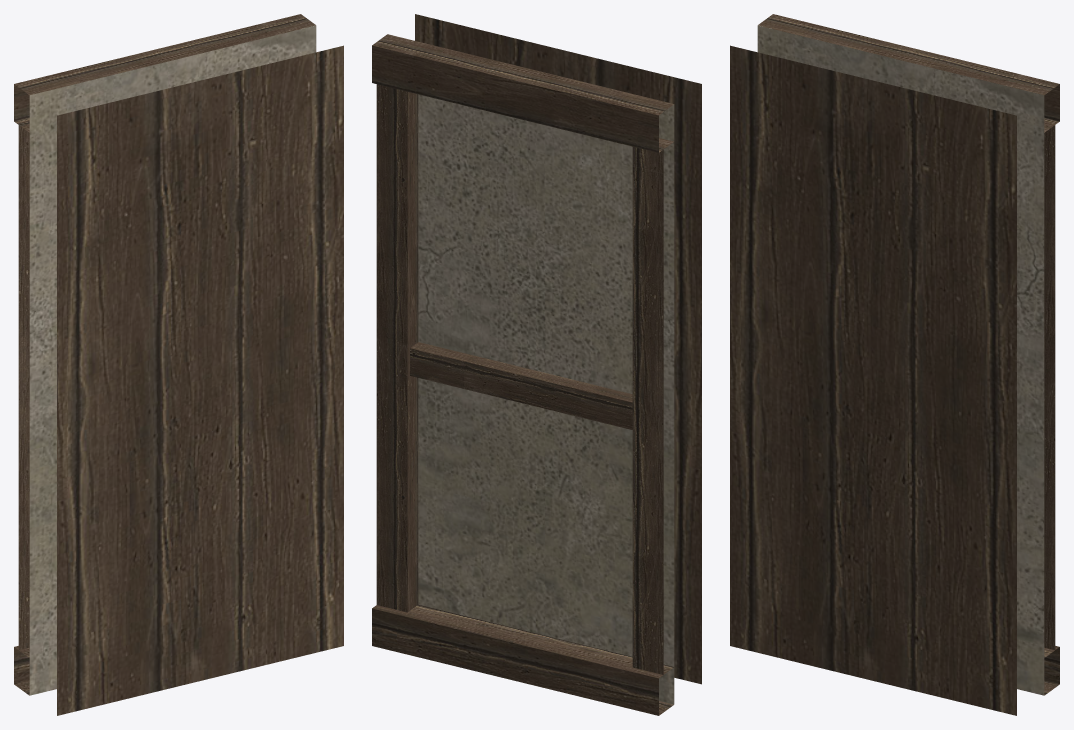
File: ARC1010243.fbx
The picture shows the model from 3 angles, left to right: view 1: azimuth 30°, elevation 25°; view 2: azimuth 150°, elevation 25°; view 3: azimuth 330°, elevation 25°; orthographic projection.
Parts seen in each view (by area): view 1: smARC1010243; view 2: smARC1010243; view 3: smARC1010243.
Part boxes in pixels (x1,y1,x2,y2): smARC1010243: [14, 14, 343, 715]; smARC1010243: [372, 14, 701, 715]; smARC1010243: [730, 14, 1059, 715].
Bounding box in the file's own units: 134 × 268 × 34.9.
1 material, 1 textured.
